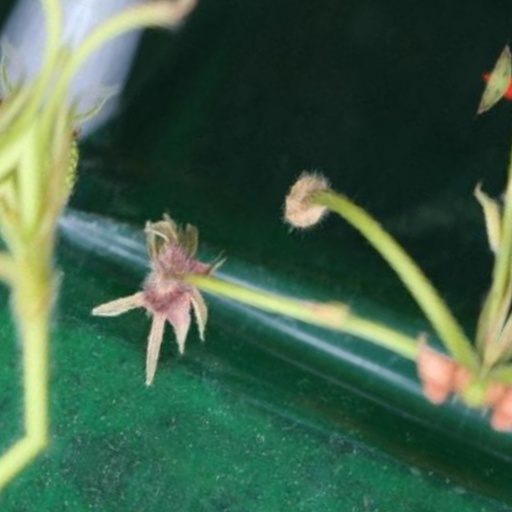Gray Mold: (269, 92, 386, 261)
